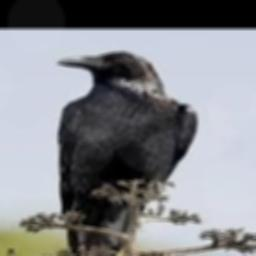Crow: (57, 52, 197, 256)
